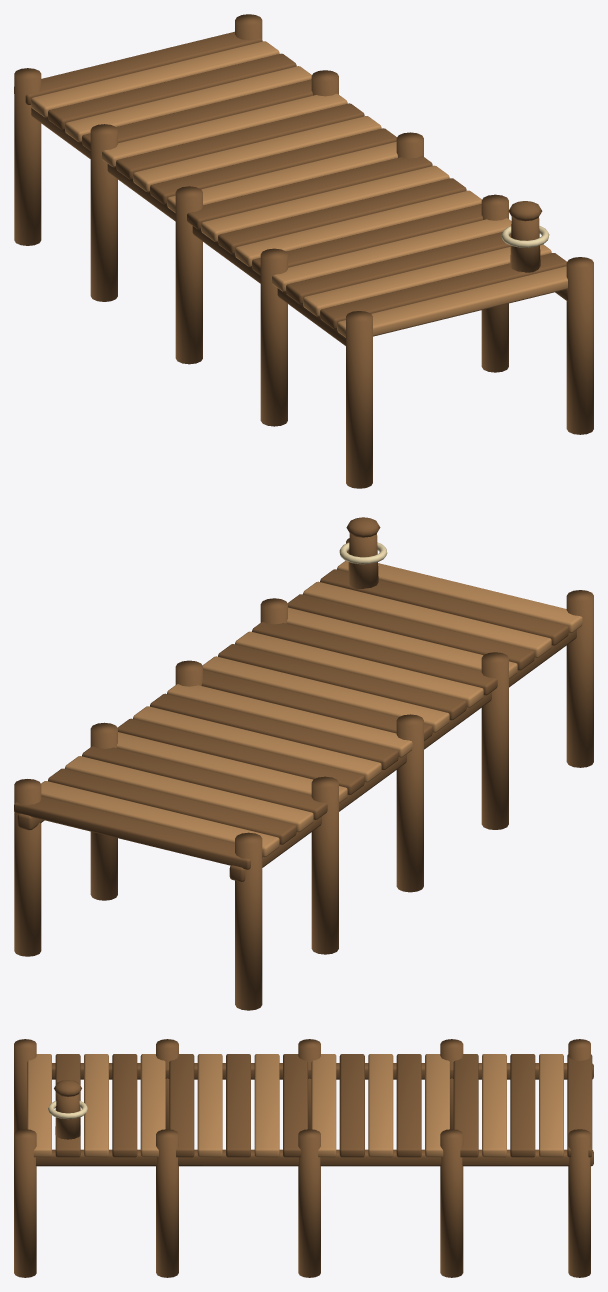
The model's file is dock.glb.
The picture shows the model from 3 angles, top to bottom: view 1: azimuth 30°, elevation 25°; view 2: azimuth 150°, elevation 25°; view 3: azimuth 270°, elevation 25°; orthographic projection. The views are drawn at different scales.
Parts seen in each view (by area): view 1: dock.001; view 2: dock.001; view 3: dock.001.
Part boxes in pixels (x1=…): dock.001: x1=14, y1=14, x2=593, y2=488; dock.001: x1=14, y1=517, x2=593, y2=1010; dock.001: x1=14, y1=1039, x2=593, y2=1277.
Bounding box in the file's own units: 1.66 × 1.39 × 4.08.
